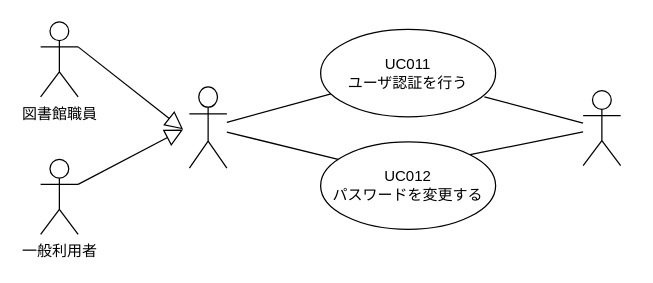
This 653x283 diagram has some shape labels left out. Each missing label, with the box of its shape:
weblibdb: (582, 89, 621, 166)
利用者: (188, 86, 227, 168)
